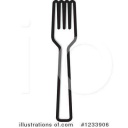Fork: (44, 1, 86, 123)
